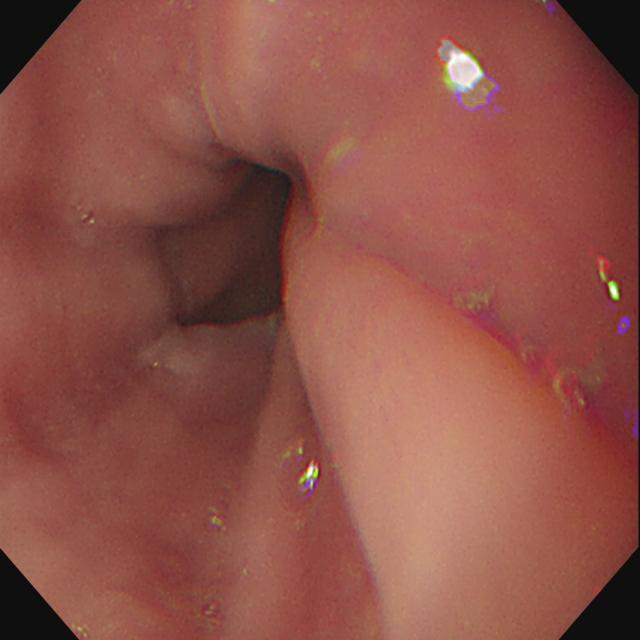E: (176, 144, 312, 328)
J: (139, 326, 198, 380)
U: (438, 37, 501, 111), (597, 254, 621, 303), (299, 461, 320, 495)
